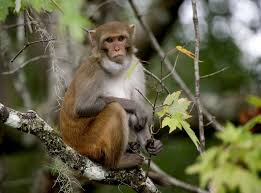monkey: (36, 14, 210, 193)
